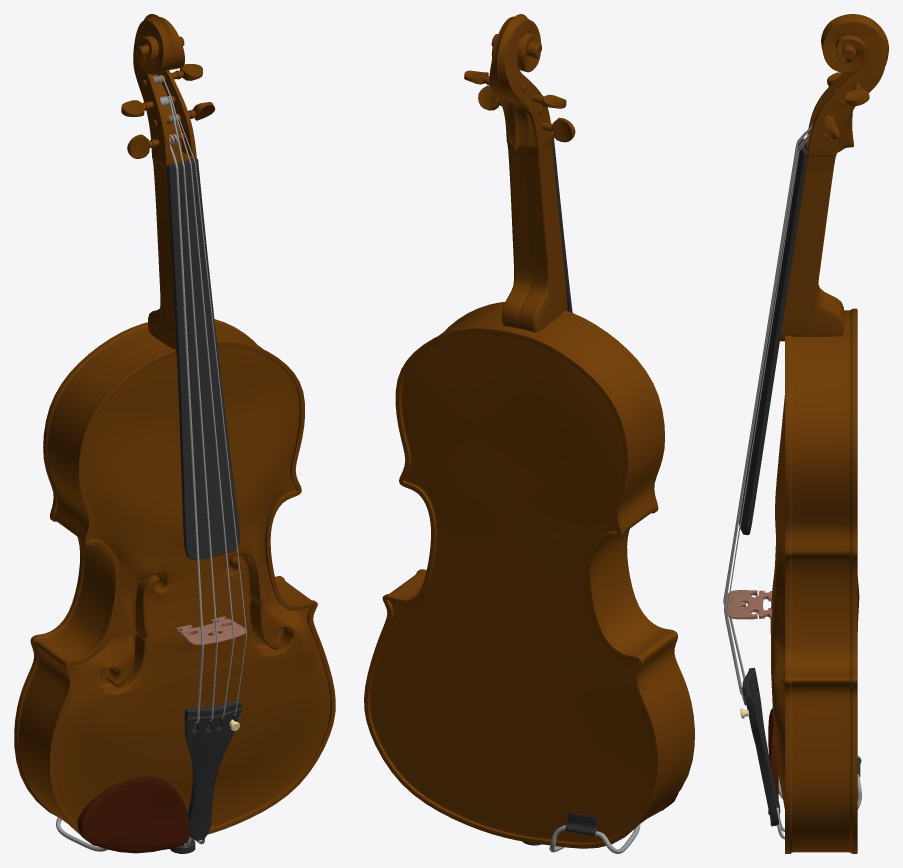
Rendered from uploads_files_873920_KMN_LP.fbx.
3 views of the same model, side by side, from view 1: azimuth 30°, elevation 25°; view 2: azimuth 150°, elevation 25°; view 3: azimuth 270°, elevation 25° (orthographic). The views are drawn at different scales.
Visible parts, largest first — view 1: KMN_Govde_LP, KMN_Klavye_LP, KMN_Sap_LP, KMN_Cenelik_LP, KMN_Teldibi_LP, KMN_tel_kalın_LP, KMN_tel_kalın_02_LP, KMN_tel_ince_LP, KMN_kopru_LP, KMN_tel_ince_02_LP; view 2: KMN_Govde_LP, KMN_Sap_LP, KMN_Klavye_LP; view 3: KMN_Govde_LP, KMN_Sap_LP, KMN_Klavye_LP, KMN_Teldibi_LP, KMN_tel_kalın_02_LP, KMN_tel_ince_LP, KMN_kopru_LP, KMN_tel_ince_02_LP, KMN_Cenelik_LP, KMN_akordist_sol_ust_LP.
Part boxes in pixels (x1,y1,x2,y2): KMN_Govde_LP: (14,319,335,839); KMN_Klavye_LP: (167,158,239,560); KMN_Sap_LP: (133,14,196,356); KMN_Cenelik_LP: (77,776,189,853); KMN_Teldibi_LP: (184,699,242,840); KMN_tel_kalın_LP: (170,143,203,723); KMN_tel_kalın_02_LP: (166,96,218,721); KMN_tel_ince_LP: (160,75,234,719); KMN_kopru_LP: (176,616,247,645); KMN_tel_ince_02_LP: (176,114,246,715); KMN_Govde_LP: (364,302,694,848); KMN_Sap_LP: (489,14,567,332); KMN_Klavye_LP: (552,134,572,312); KMN_Govde_LP: (770,308,859,853); KMN_Sap_LP: (780,14,888,341); KMN_Klavye_LP: (739,138,807,535); KMN_Teldibi_LP: (741,667,780,826); KMN_tel_kalın_02_LP: (723,124,812,687); KMN_tel_ince_LP: (724,132,810,694); KMN_kopru_LP: (724,590,772,619); KMN_tel_ince_02_LP: (726,137,809,702); KMN_Cenelik_LP: (768,708,778,814); KMN_akordist_sol_ust_LP: (844,83,869,105).
Bounding box in the file's own units: 11.5 × 31.41 × 5.67.
